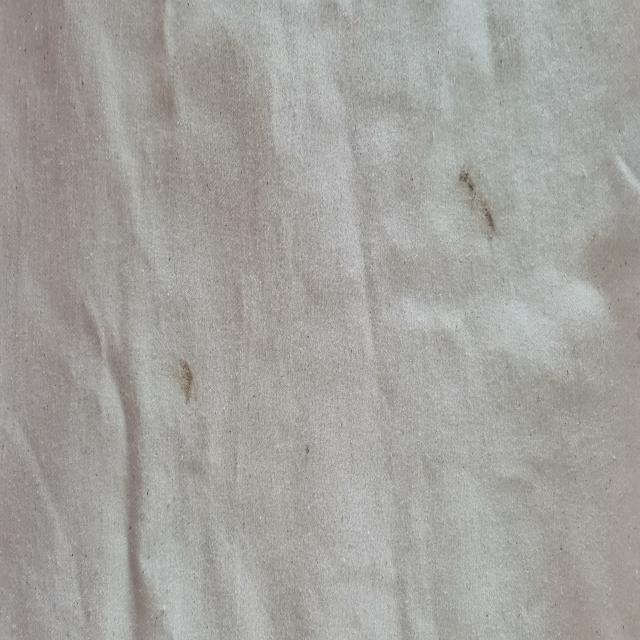taaaches: (454, 149, 501, 248), (175, 342, 203, 426)
